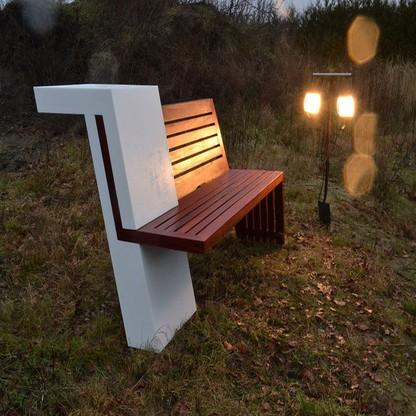obstacle: (56, 66, 293, 292)
